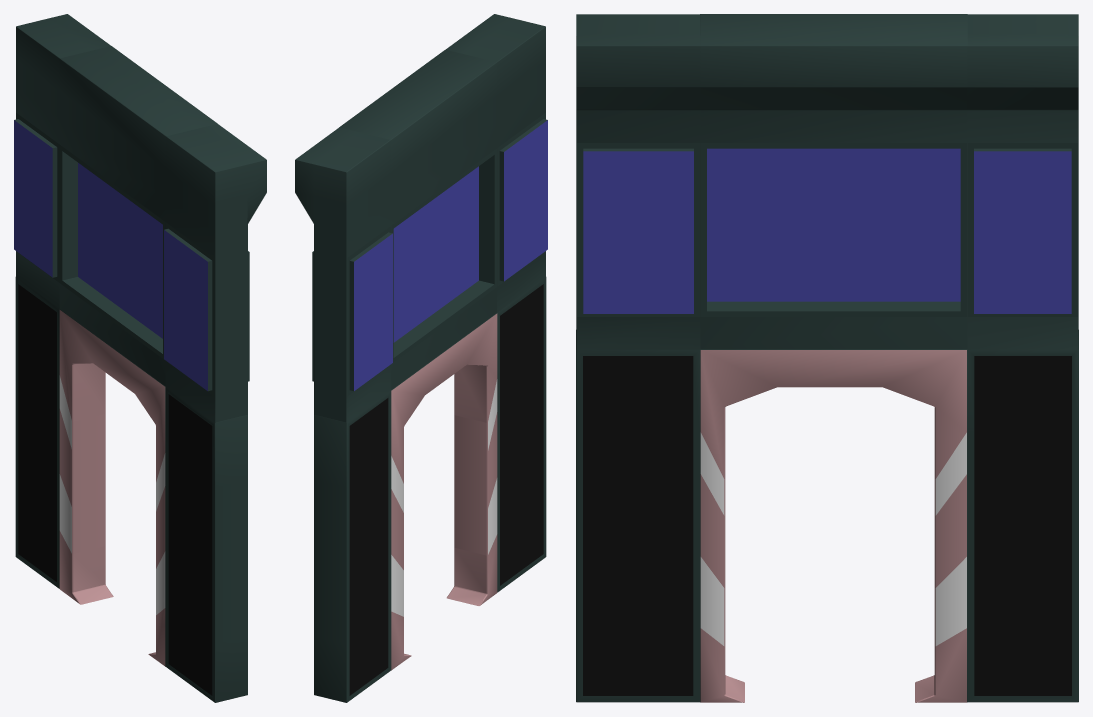
The model's file is porte médicale 2.fbx.
3 renders of one model, left to right at view 1: azimuth 30°, elevation 25°; view 2: azimuth 150°, elevation 25°; view 3: azimuth 270°, elevation 25°, orthographic. The views are drawn at different scales.
Parts seen in each view (by area): view 1: Box004; view 2: Box004; view 3: Box004.
Boxes of the visible parts, x1,y1,x2,y2 form: Box004: [14, 14, 266, 702]; Box004: [295, 14, 547, 702]; Box004: [576, 14, 1078, 702].
Bounding box in the file's own units: 110 × 990 × 674.
